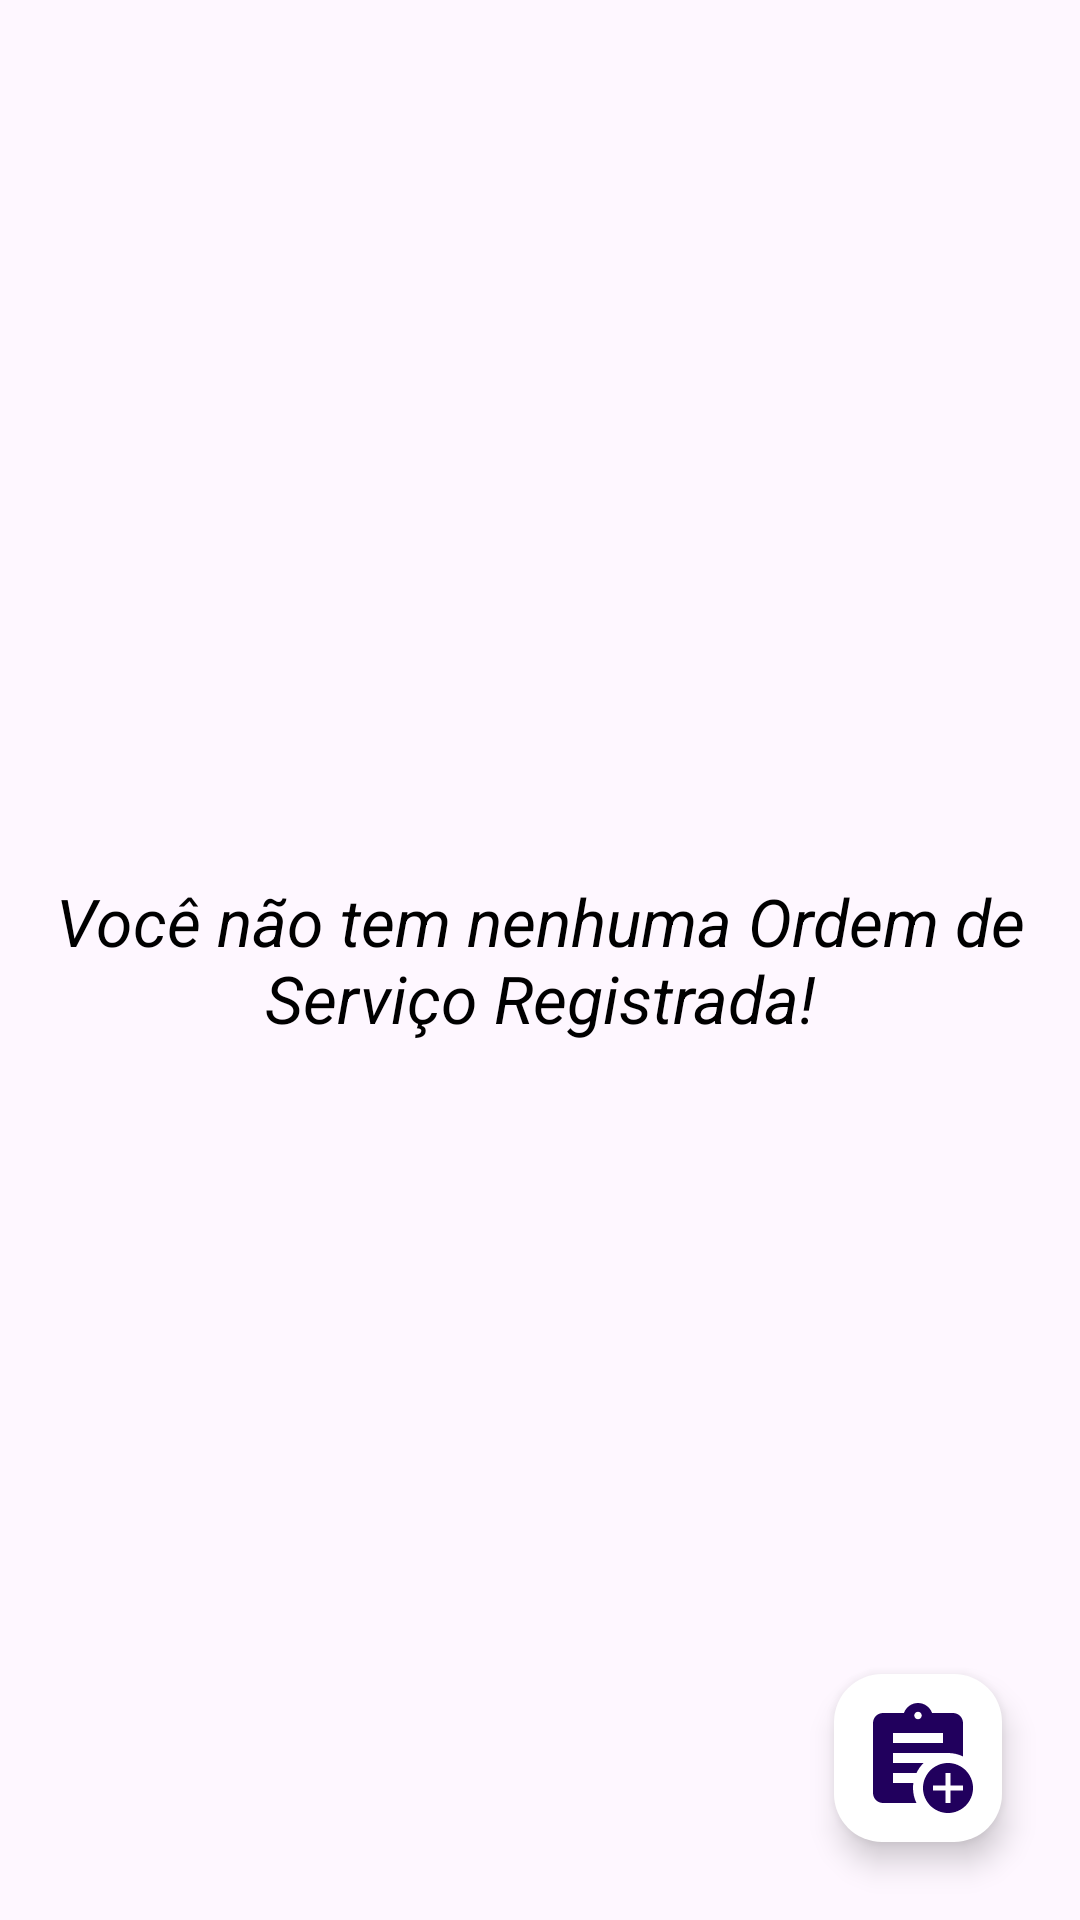

Screen size 1080 x 1920. Icon name, then its center in pixels as (x=x, y=y):
Nova Ordem de Serviço: (x=923, y=1758)
